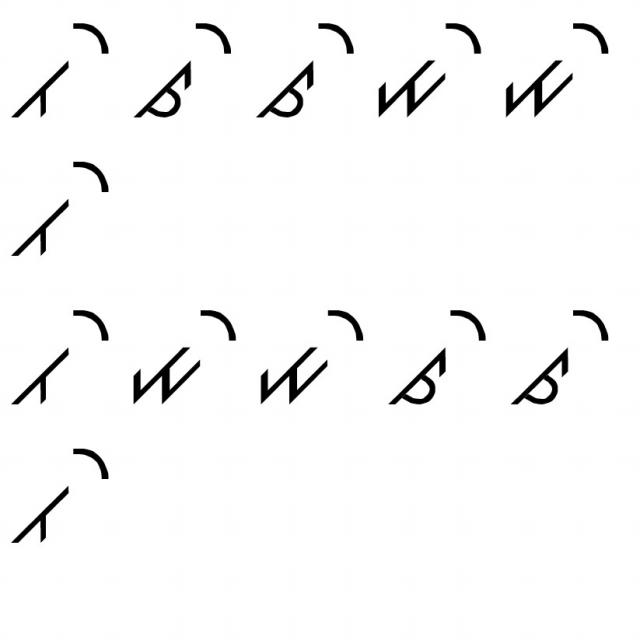bay: (7, 151, 123, 268), (4, 298, 118, 413), (8, 433, 116, 548), (3, 19, 115, 127)
cay: (135, 15, 238, 136), (507, 303, 614, 419), (250, 11, 358, 125), (389, 306, 486, 414)
may: (254, 299, 368, 416), (502, 9, 616, 123), (364, 13, 484, 121), (131, 299, 237, 416)
